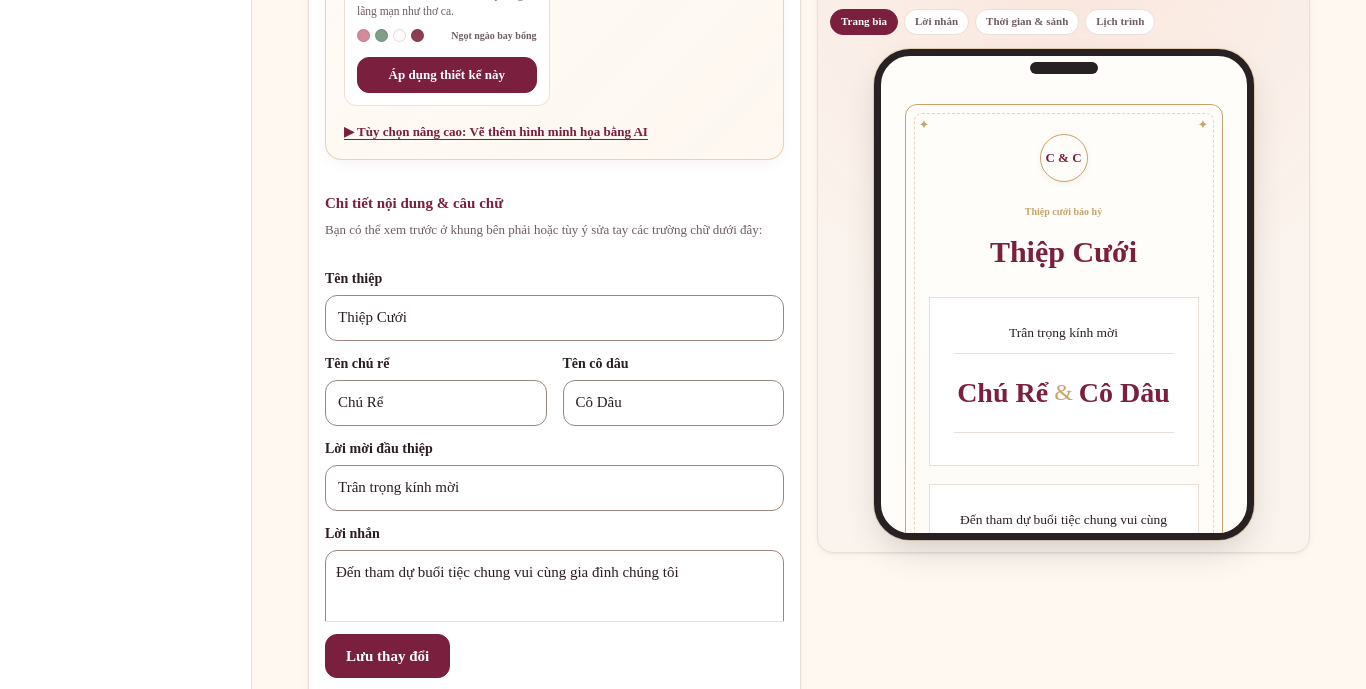
Test: CoupleInvitationsPage URL tab synchronization › preserves draft input when switching tabs on the same booking
(page scrolled)
Note: Type custom text into design input
Replace the text in the field labelled "Tên thiệp" with "Thiệp Cưới Bản Nháp Đặc Biệt" at coordinates (554, 318), box left=325, top=296, right=784, bottom=341
(page scrolled)
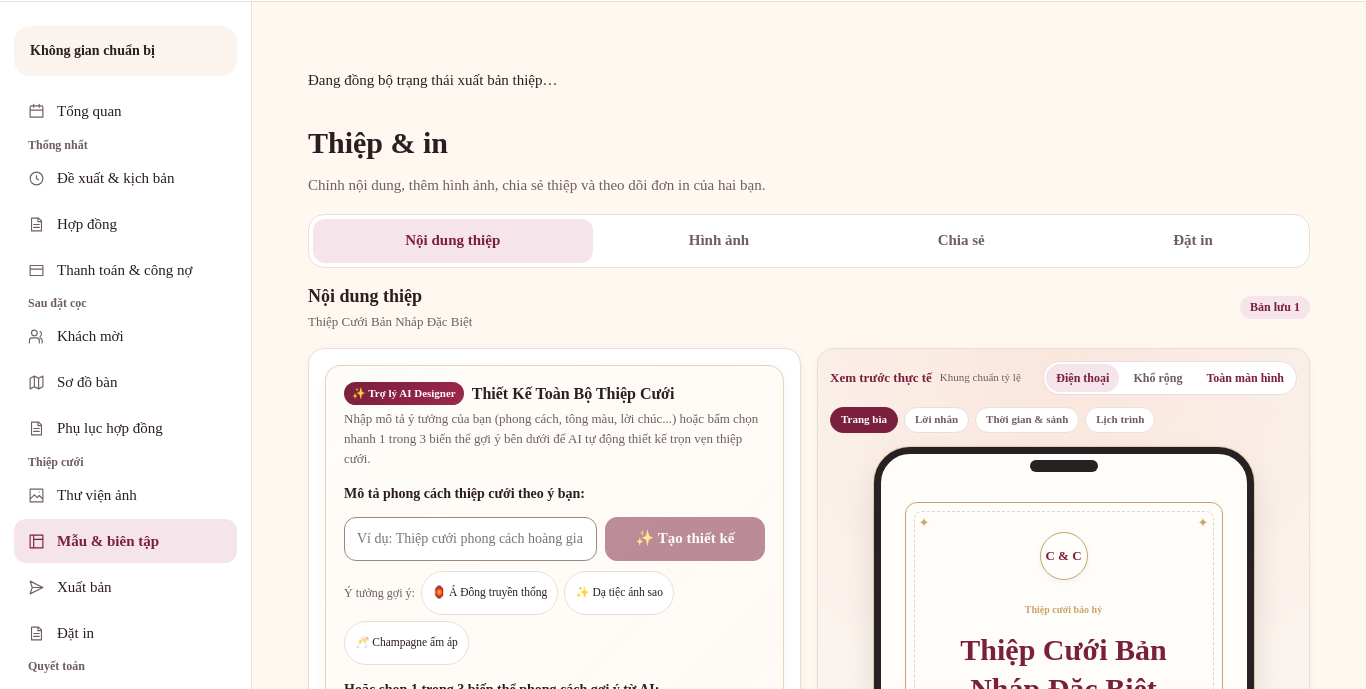
Note: Switch to Media tab via Studio Tab navigation
Click the button "Hình ảnh".
click(719, 240)  # box left=596, top=218, right=841, bottom=262
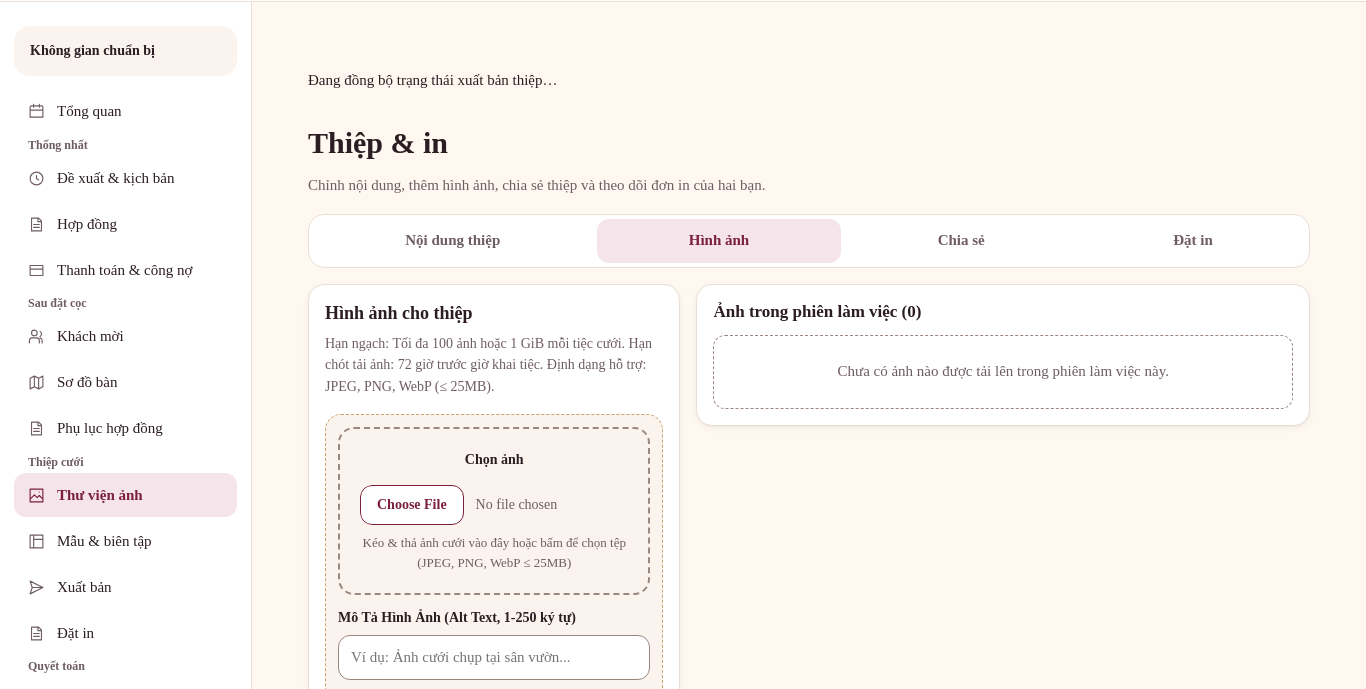
expect the heading "Hình ảnh cho thiệp" is shown: met, box left=325, top=302, right=473, bottom=322
Note: Switch back to Design tab via Studio Tab navigation
Click the button "Nội dung thiệp".
click(453, 240)  # box left=313, top=218, right=592, bottom=262
(page scrolled)
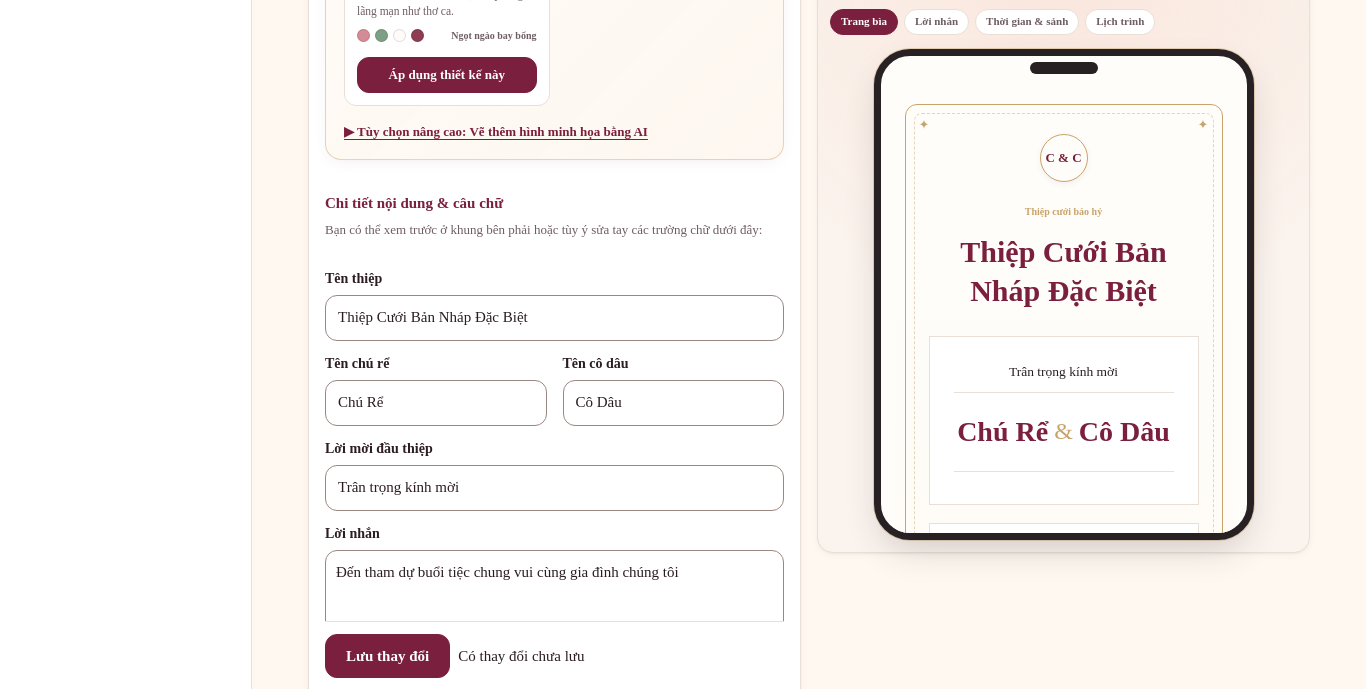
expect the field labelled "Tên thiệp" holds "Thiệp Cưới Bản Nháp Đặc Biệt": met, box left=325, top=296, right=784, bottom=341
